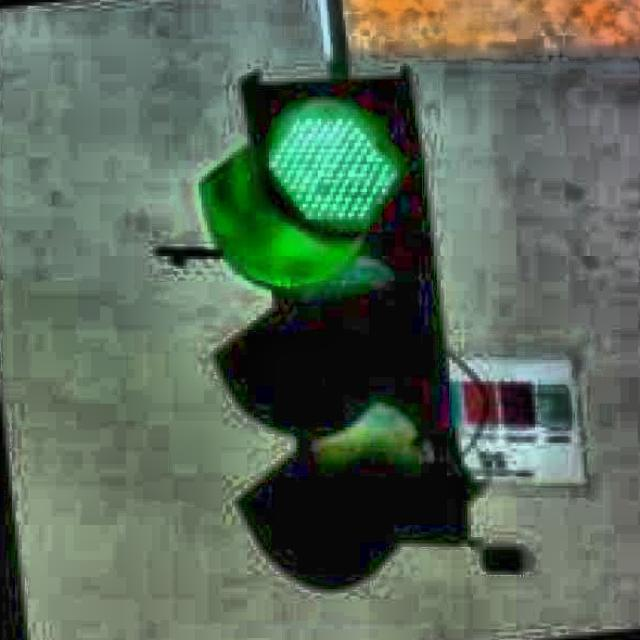green: (230, 74, 408, 555)
